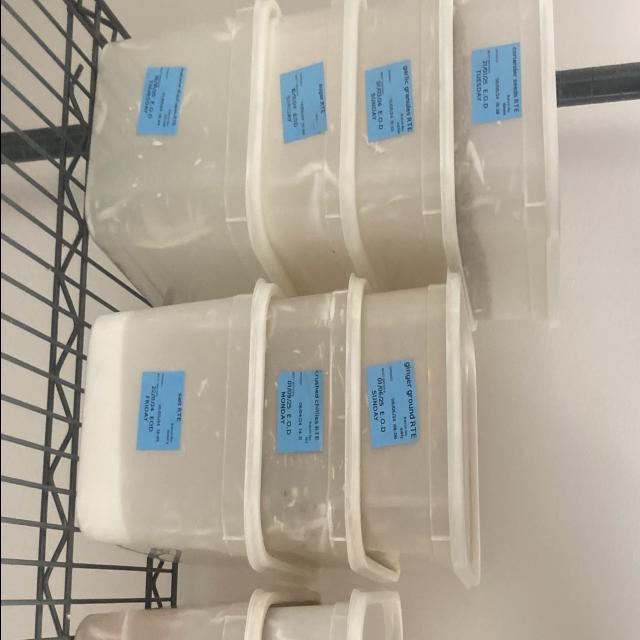product-labels: (365, 358, 419, 449), (364, 59, 415, 145), (136, 369, 186, 454), (279, 62, 329, 143), (276, 369, 323, 454), (469, 45, 519, 124), (135, 64, 187, 138)
